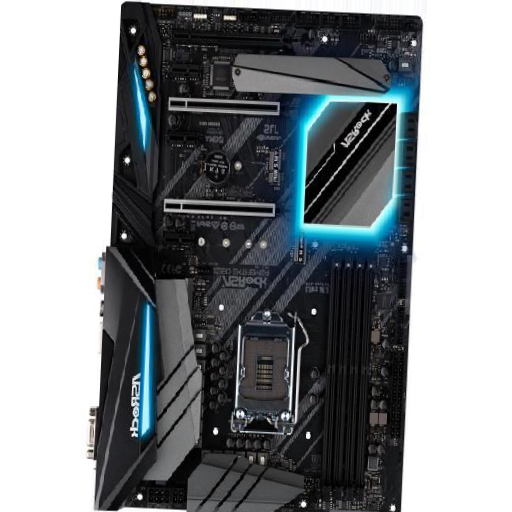CPU: (232, 310, 295, 425)
GPU: (167, 94, 304, 126), (163, 194, 297, 224)
MOTHERBOARD: (94, 1, 409, 512)
RAM: (317, 250, 376, 510)
SSD: (264, 148, 283, 190), (289, 226, 309, 265)
